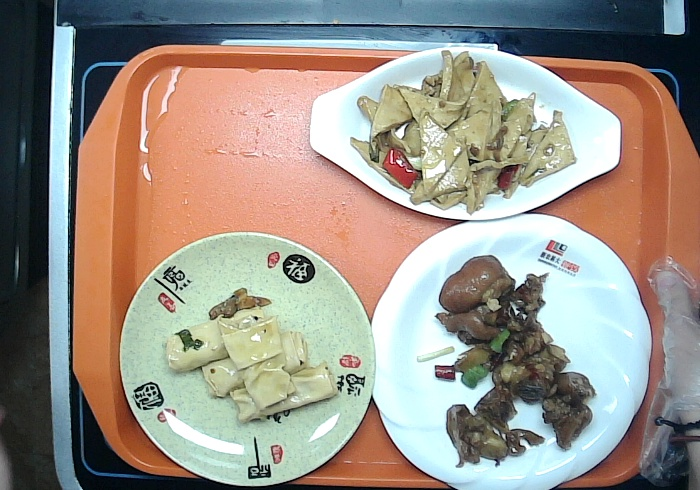NLDX-Bai_Zhe_Yuan_Pan: (359, 208, 660, 490)
NLDX-Fu_Zi_Yuan_Pan: (115, 227, 380, 490)
NLDX-Yu_Pan: (305, 44, 627, 225)
